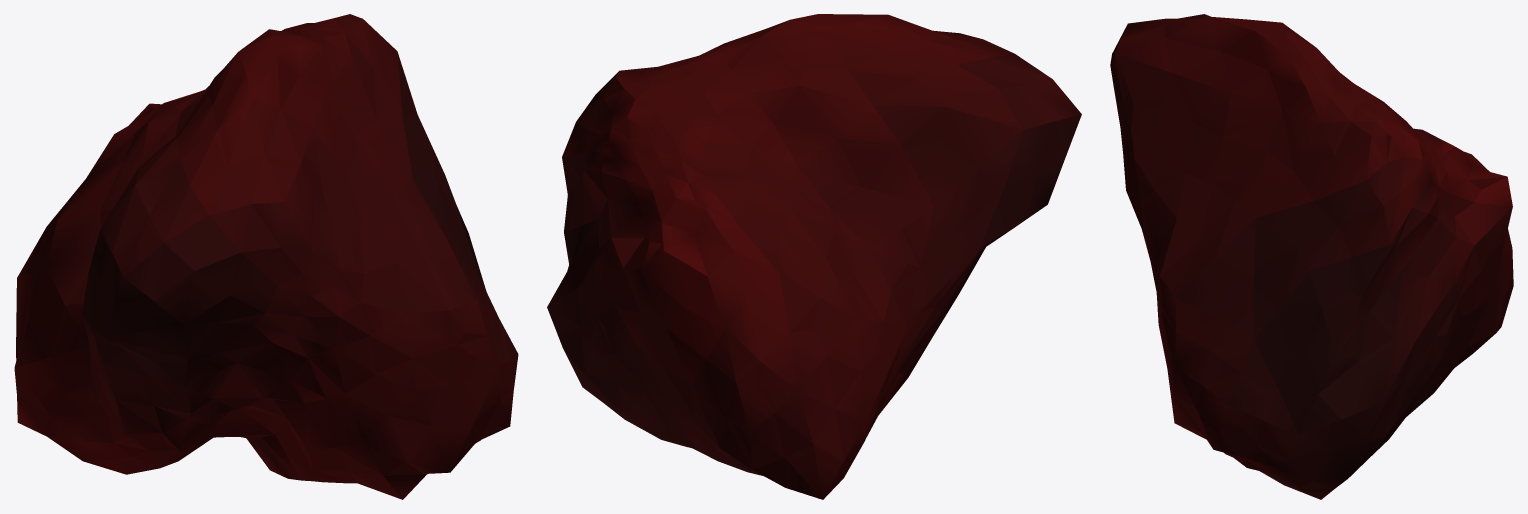
The model's file is geology-rocks-asteroidhuge_v2.fbx.
3 renders of one model, left to right at view 1: azimuth 30°, elevation 25°; view 2: azimuth 150°, elevation 25°; view 3: azimuth 270°, elevation 25°, orthographic. The views are drawn at different scales.
Parts seen in each view (by area): view 1: AsteroidHuge_v2; view 2: AsteroidHuge_v2; view 3: AsteroidHuge_v2.
Boxes of the visible parts, x1,y1,x2,y2 form: AsteroidHuge_v2: (14, 14, 518, 499); AsteroidHuge_v2: (547, 14, 1081, 499); AsteroidHuge_v2: (1110, 14, 1513, 499).
Size of the model in its own units: 1.79 by 1.73 by 1.57.
